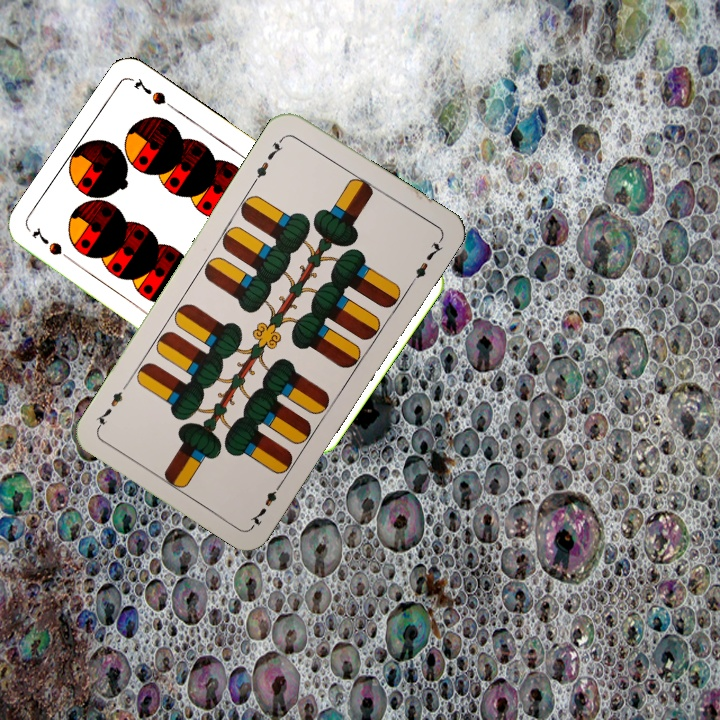E7: (246, 476, 287, 529), (249, 133, 288, 186)
S7: (28, 224, 78, 267)
